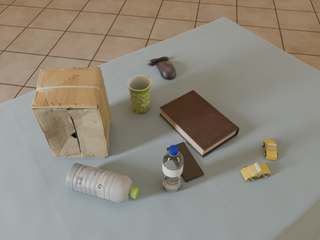book: (160, 90, 239, 157)
bottle: (66, 163, 139, 203), (162, 145, 184, 192)
box: (32, 67, 111, 158)
cup: (127, 75, 151, 113)
mouse: (148, 57, 176, 79)
phone: (167, 142, 204, 182)
toy_car: (241, 163, 270, 181), (262, 140, 278, 160)
